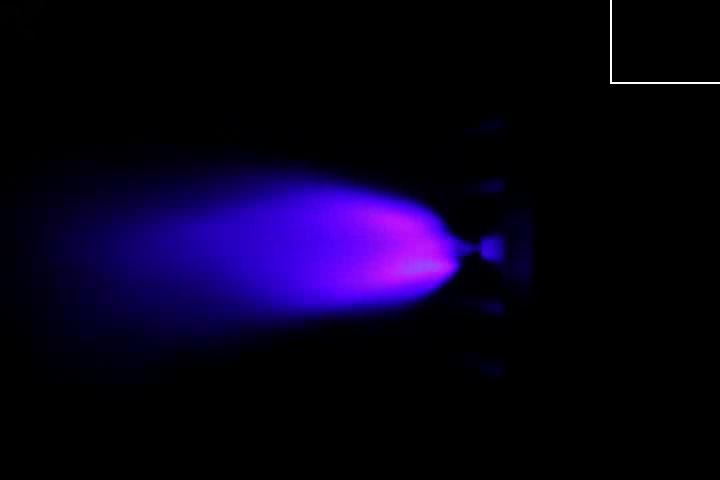burner cap: (477, 231, 512, 269)
unstable: (297, 174, 475, 321)
